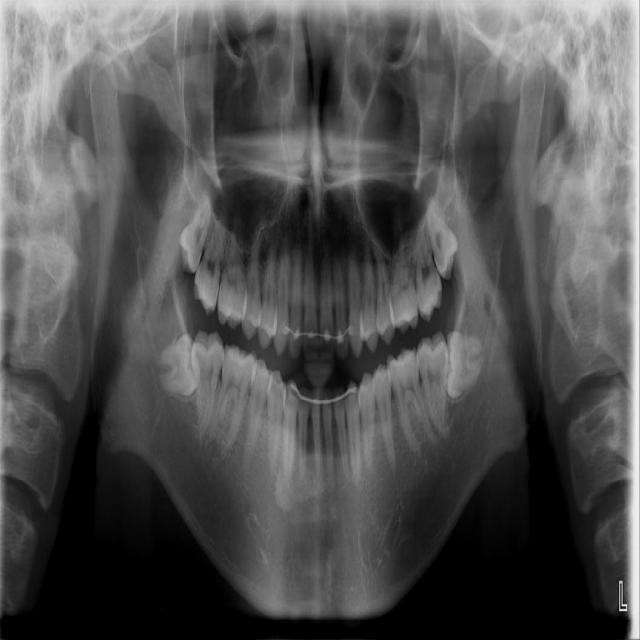impacted tooth: (157, 331, 201, 397), (446, 331, 489, 398), (423, 199, 459, 279), (177, 186, 211, 270)
